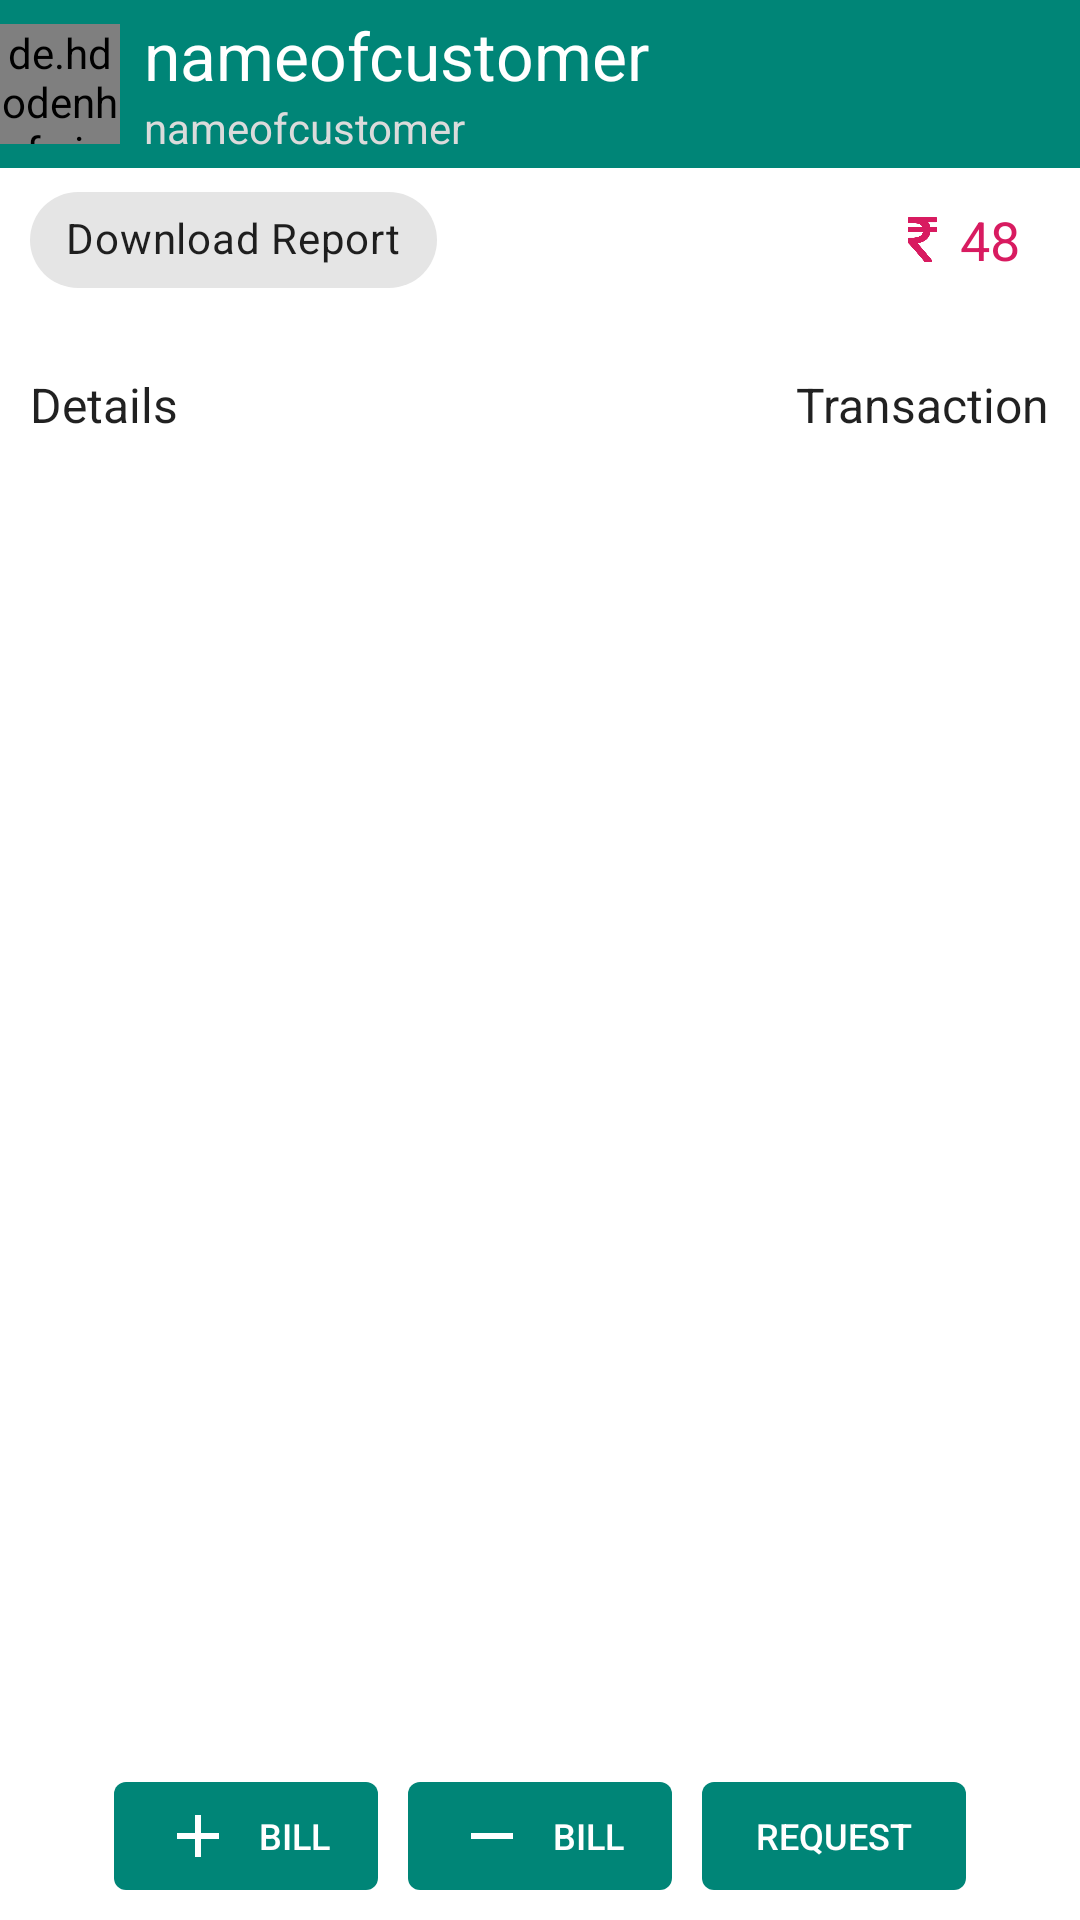

Point at icon controls on the screen. Image size 1080 x 1920, points as (x=x, y=y).
rupee indian: (x=922, y=239)
